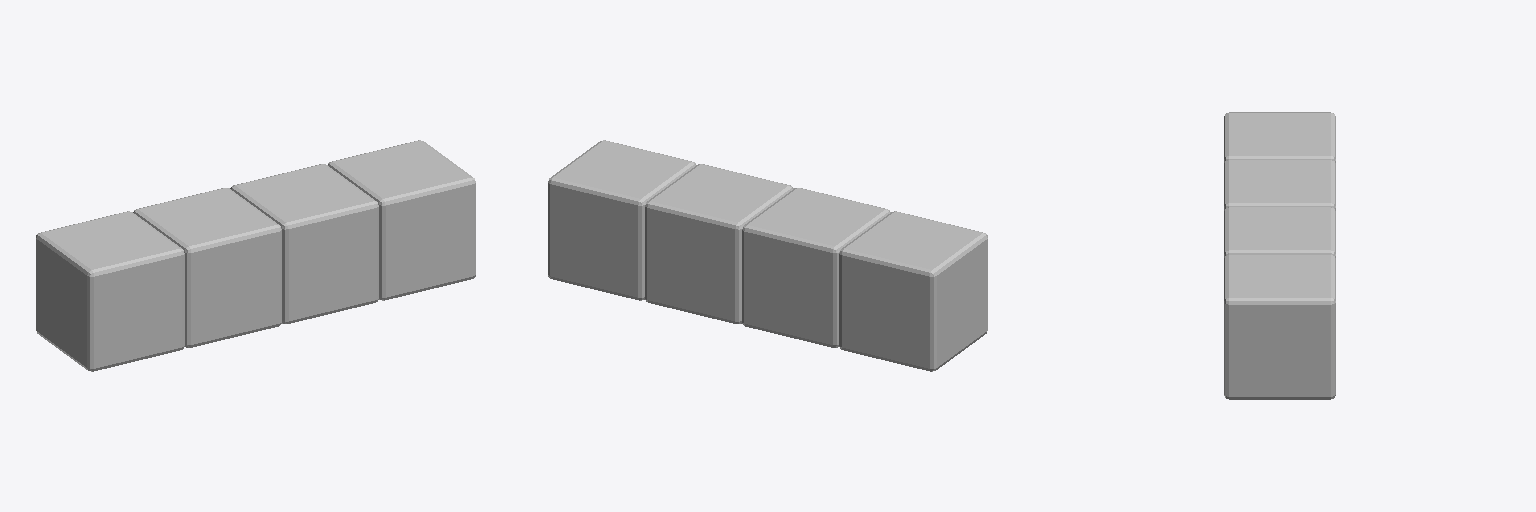
File: Four_Block.obj
3 renders of one model, left to right at view 1: azimuth 30°, elevation 25°; view 2: azimuth 150°, elevation 25°; view 3: azimuth 270°, elevation 25°, orthographic.
Parts seen in each view (by area): view 1: polySurface46; view 2: polySurface46; view 3: polySurface46.
Boxes of the visible parts, box(x1,y1,x2,y2) form: polySurface46: box(36, 140, 475, 371); polySurface46: box(548, 140, 987, 371); polySurface46: box(1224, 112, 1335, 399).
Bounding box in the file's own units: 4 × 1 × 1.